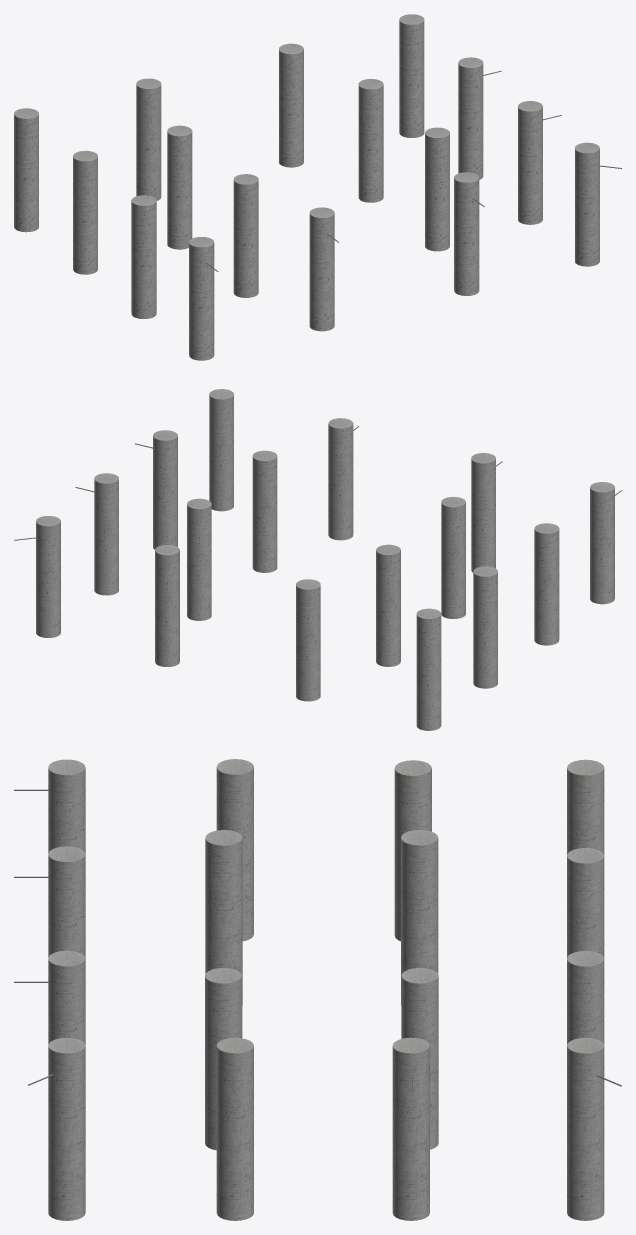
The model's file is pilares.obj.
The picture shows the model from 3 angles, top to bottom: view 1: azimuth 30°, elevation 25°; view 2: azimuth 150°, elevation 25°; view 3: azimuth 270°, elevation 25°; orthographic projection. The views are drawn at different scales.
Parts seen in each view (by area): view 1: pasted__pasted__pasted__polySurface60 pasted__pasted__pasted__po, polySurface61 polySurface27, polySurface27 polySurface72, polySurface27 polySurface64, polySurface27 polySurface41, polySurface27 polySurface60, pasted__polySurface60 pasted__polySurface27 group52, polySurface27 polySurface71, pasted__pasted__polySurface60 pasted__pasted__polySurface27 past, polySurface27 polySurface58, polySurface27 polySurface70, polySurface27 polySurface45 (+3 smaller); view 2: pasted__pasted__pasted__polySurface60 pasted__pasted__pasted__po, polySurface27 polySurface72, pasted__pasted__polySurface60 pasted__pasted__polySurface27 past, polySurface27 polySurface46, polySurface27 polySurface41, polySurface27 polySurface62, polySurface27 polySurface71, polySurface27 polySurface68, polySurface27 polySurface60, polySurface61 polySurface27, polySurface27 polySurface58, pasted__polySurface60 pasted__polySurface27 group52 (+3 smaller); view 3: pasted__pasted__pasted__polySurface60 pasted__pasted__pasted__po, polySurface27 polySurface70, polySurface61 polySurface27, polySurface27 polySurface45, polySurface27 polySurface62, pasted__polySurface60 pasted__polySurface27 group52, polySurface27 polySurface72, polySurface27 polySurface64, pasted__pasted__polySurface60 pasted__pasted__polySurface27 past, polySurface27 polySurface71, polySurface27 polySurface68, polySurface27 polySurface46 (+3 smaller).
Boxes of the visible parts, x1,y1,x2,y2 form: pasted__pasted__pasted__polySurface60 pasted__pasted__pasted__po: (233, 79, 383, 297); polySurface61 polySurface27: (399, 14, 424, 137); polySurface27 polySurface72: (131, 195, 156, 318); polySurface27 polySurface64: (309, 207, 334, 331); polySurface27 polySurface41: (454, 172, 479, 295); polySurface27 polySurface60: (189, 237, 214, 360); pasted__polySurface60 pasted__polySurface27 group52: (167, 125, 192, 249); polySurface27 polySurface71: (136, 78, 161, 200); pasted__pasted__polySurface60 pasted__pasted__polySurface27 past: (425, 127, 449, 251); polySurface27 polySurface58: (279, 43, 303, 167); polySurface27 polySurface70: (575, 142, 599, 266); polySurface27 polySurface45: (518, 101, 542, 224); pasted__pasted__pasted__polySurface60 pasted__pasted__pasted__po: (187, 497, 465, 620); polySurface27 polySurface72: (534, 523, 559, 645); pasted__pasted__polySurface60 pasted__pasted__polySurface27 past: (252, 450, 277, 572); polySurface27 polySurface46: (416, 608, 441, 730); polySurface27 polySurface41: (328, 418, 353, 540); polySurface27 polySurface62: (94, 473, 118, 595); polySurface27 polySurface71: (296, 579, 320, 701); polySurface27 polySurface68: (473, 566, 497, 688); polySurface27 polySurface60: (590, 482, 614, 604); polySurface61 polySurface27: (36, 516, 60, 637); polySurface27 polySurface58: (155, 545, 179, 666); pasted__polySurface60 pasted__polySurface27 group52: (376, 544, 400, 666); pasted__pasted__pasted__polySurface60 pasted__pasted__pasted__po: (205, 830, 438, 1149); polySurface27 polySurface70: (48, 1037, 85, 1220); polySurface61 polySurface27: (567, 1037, 604, 1220); polySurface27 polySurface45: (216, 1037, 253, 1220); polySurface27 polySurface62: (392, 1037, 429, 1220); pasted__polySurface60 pasted__polySurface27 group52: (401, 829, 438, 1004); polySurface27 polySurface72: (216, 759, 253, 941); polySurface27 polySurface64: (48, 846, 85, 957); pasted__pasted__polySurface60 pasted__pasted__polySurface27 past: (205, 968, 242, 1150); polySurface27 polySurface71: (567, 848, 604, 957); polySurface27 polySurface68: (394, 760, 431, 941); polySurface27 polySurface46: (567, 759, 604, 854).
Bounding box in the file's own units: 84.09 × 21.26 × 69.95.
2 materials, 1 textured.
